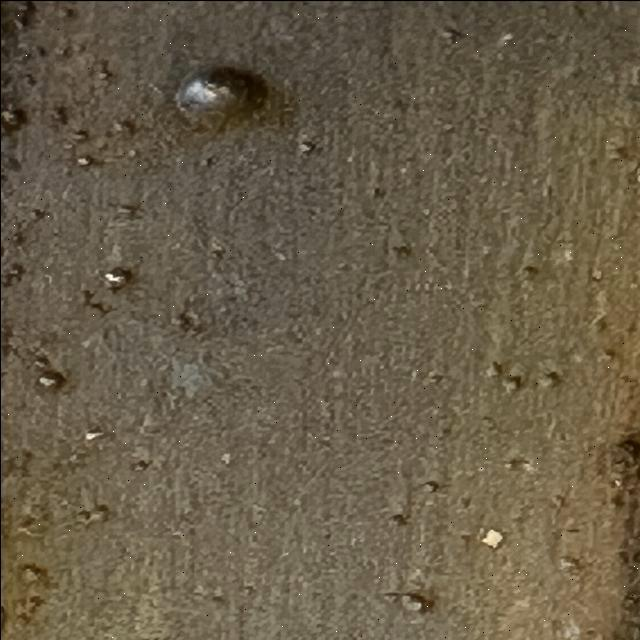Spatters: (173, 67, 267, 129), (382, 592, 433, 614), (0, 102, 27, 135), (3, 1, 33, 28), (102, 266, 132, 290), (75, 504, 108, 525), (0, 263, 25, 286), (110, 118, 135, 138), (37, 371, 65, 388), (537, 371, 562, 388), (558, 555, 580, 572), (113, 204, 138, 218), (52, 105, 68, 124), (502, 375, 520, 391), (520, 265, 538, 280), (97, 62, 112, 79), (596, 349, 615, 361), (130, 459, 150, 470), (297, 141, 315, 152), (23, 72, 37, 86), (70, 129, 87, 140), (390, 514, 407, 525), (30, 208, 45, 220), (422, 480, 438, 491), (630, 549, 640, 565), (35, 45, 47, 56), (77, 156, 90, 165), (220, 453, 230, 464), (63, 8, 75, 16)
